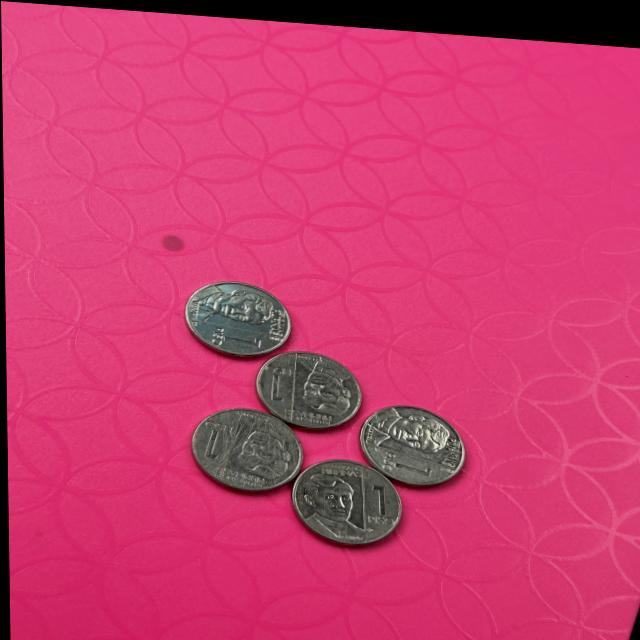1_New_Front: (378, 440, 434, 473), (199, 408, 230, 461), (359, 475, 391, 526), (262, 358, 292, 406), (203, 322, 256, 345), (230, 333, 240, 335)
